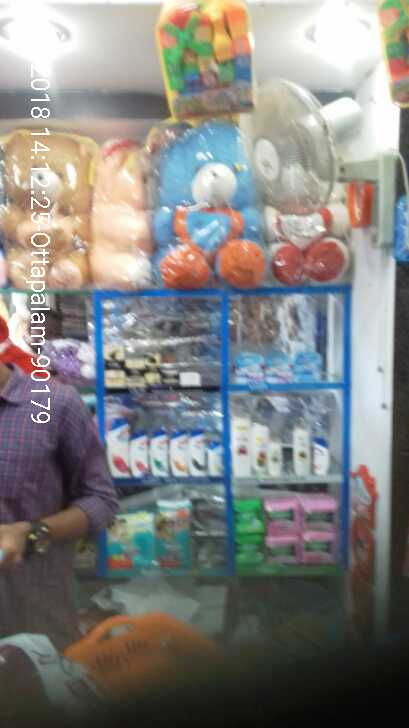venus: (232, 350, 267, 384), (294, 352, 320, 381), (270, 353, 290, 382)
